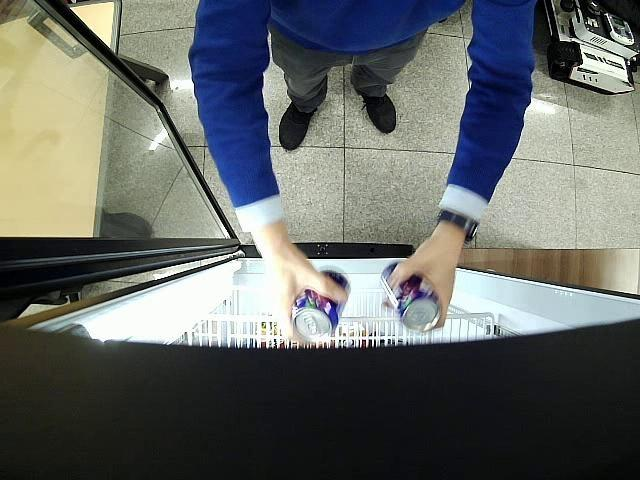14_welchsGrape: (291, 267, 350, 343), (381, 261, 442, 332)
